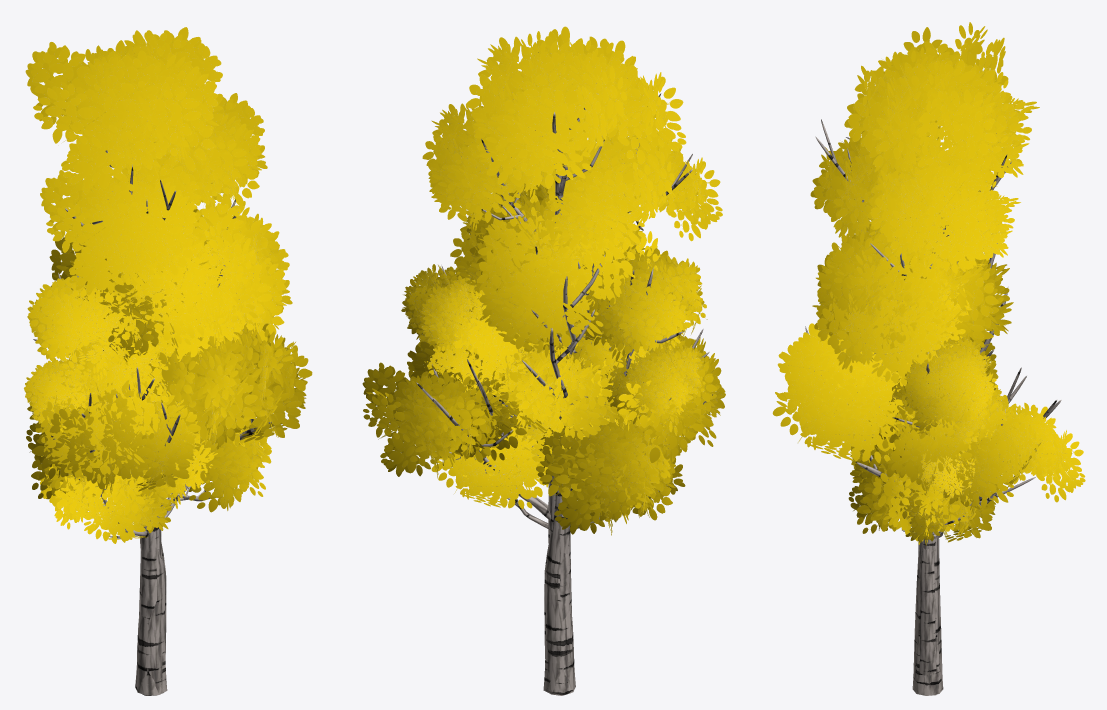
The model's file is birchtree.glb.
3 renders of one model, left to right at view 1: azimuth 30°, elevation 25°; view 2: azimuth 150°, elevation 25°; view 3: azimuth 270°, elevation 25°, orthographic. The views are drawn at different scales.
Visible parts, largest first — view 1: BirchTree_2, BirchTree_3, BirchTree_5, BirchTree_4, BirchTree_1; view 2: BirchTree_2, BirchTree_5, BirchTree_3, BirchTree_1, BirchTree_4; view 3: BirchTree_2, BirchTree_5, BirchTree_3, BirchTree_4, BirchTree_1.
Boxes of the visible parts, x1,y1,x2,y2 form: BirchTree_2: (25, 27, 292, 695); BirchTree_3: (24, 194, 284, 653); BirchTree_5: (35, 209, 312, 695); BirchTree_4: (40, 419, 271, 543); BirchTree_1: (31, 215, 269, 695); BirchTree_2: (407, 26, 725, 695); BirchTree_5: (362, 201, 723, 695); BirchTree_3: (401, 181, 709, 658); BirchTree_1: (442, 195, 673, 695); BirchTree_4: (431, 340, 685, 535); BirchTree_2: (805, 22, 1039, 695); BirchTree_5: (772, 240, 1085, 695); BirchTree_3: (812, 218, 1006, 675); BirchTree_4: (848, 337, 998, 545); BirchTree_1: (864, 240, 990, 695).
Size of what is drawn, in the model's own units: 3.59 by 7.57 by 3.51.
Materials: 2 (2 with a texture image).
